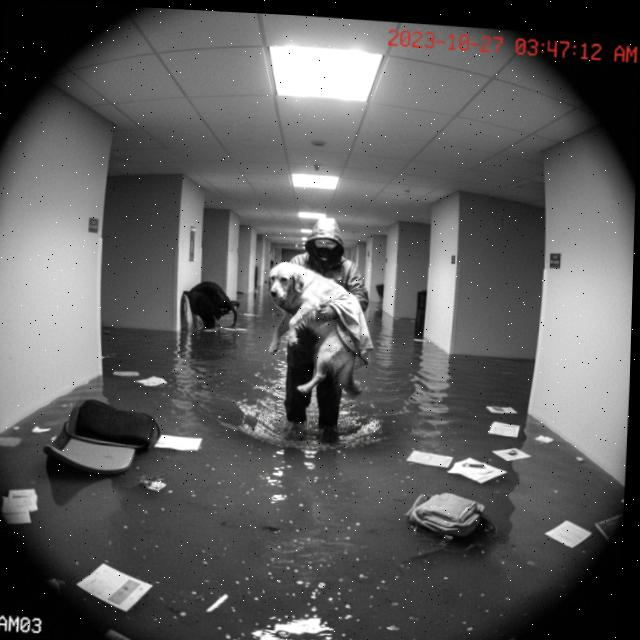civilian: (272, 211, 381, 451)
dog: (260, 258, 374, 403)
